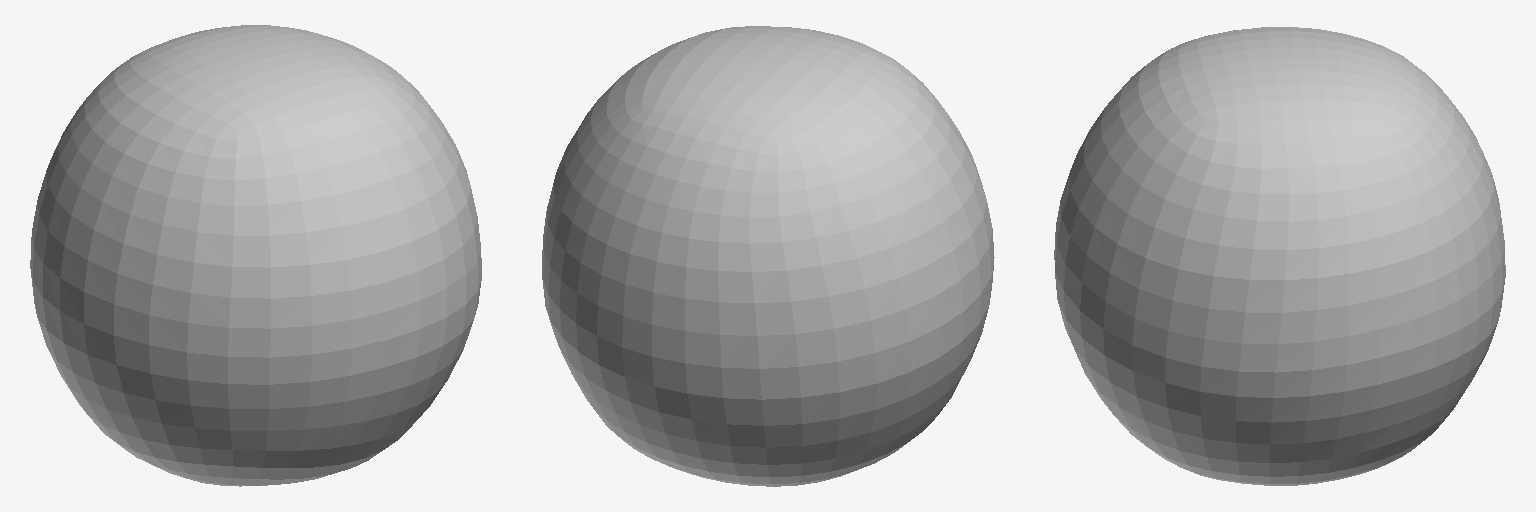
Rendered from Seed_One_High_Res.obj.
3 views of the same model, side by side, from view 1: azimuth 30°, elevation 25°; view 2: azimuth 150°, elevation 25°; view 3: azimuth 270°, elevation 25° (orthographic).
Visible parts, largest first — view 1: pCylinder2; view 2: pCylinder2; view 3: pCylinder2.
Boxes of the visible parts, x1=… form: pCylinder2: x1=30, y1=25, x2=481, y2=486; pCylinder2: x1=542, y1=26, x2=994, y2=486; pCylinder2: x1=1054, y1=27, x2=1505, y2=485.
Bounding box in the file's own units: 1.82 × 1.77 × 1.81.